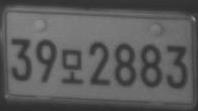2: (87, 41, 110, 85)
3: (165, 45, 188, 89), (10, 37, 32, 80)
8: (113, 42, 137, 86), (139, 44, 163, 87)
9: (35, 39, 57, 83)
모: (60, 48, 84, 85)
